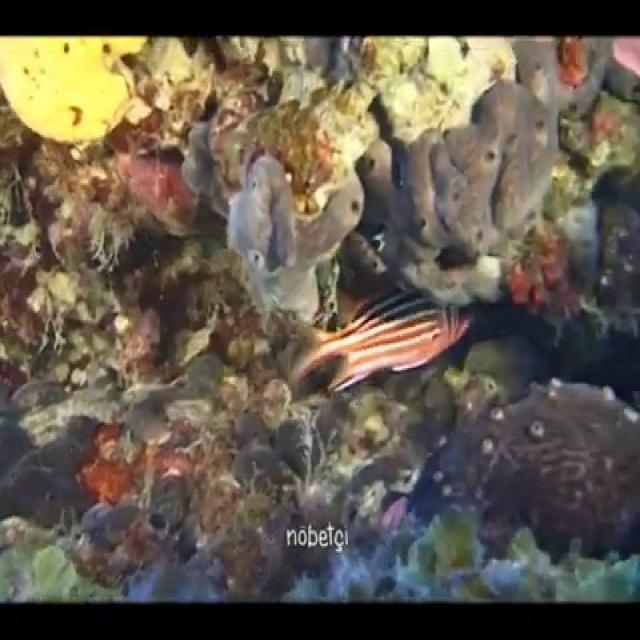Asker Baligi: (252, 274, 481, 390)
